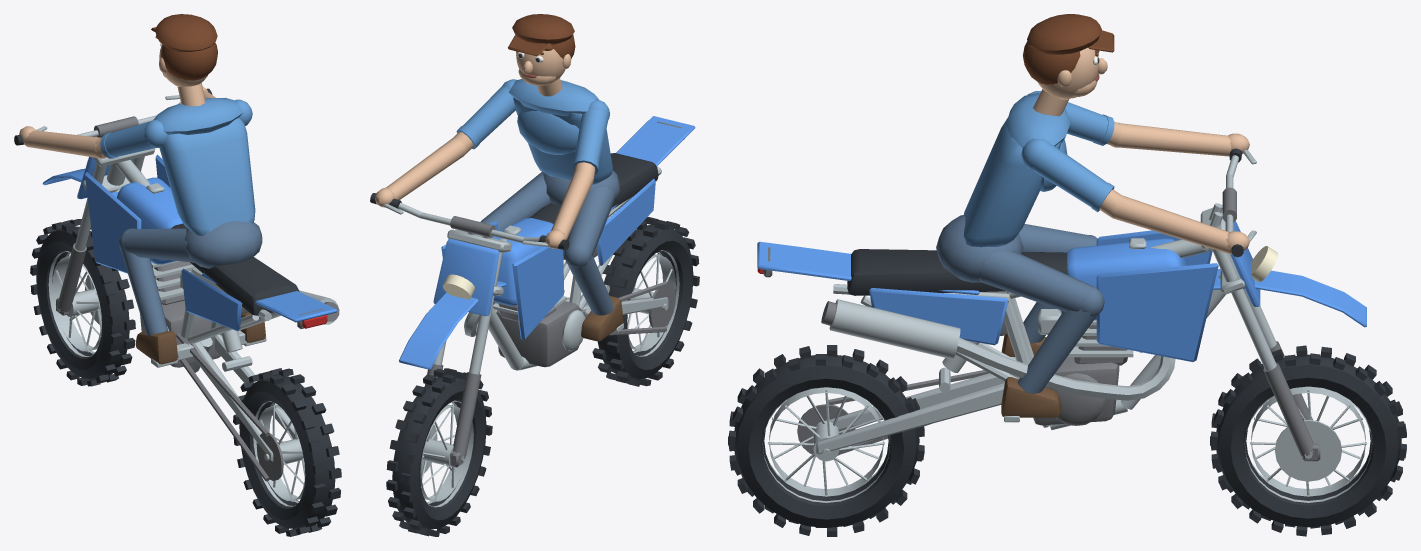
The model's file is Needle600.fbx.
3 renders of one model, left to right at view 1: azimuth 30°, elevation 25°; view 2: azimuth 150°, elevation 25°; view 3: azimuth 270°, elevation 25°, orthographic. The views are drawn at different scales.
Parts seen in each view (by area): view 1: Rider__shirt, WheelRear__rubber, Body__paint, WheelFront__rubber, Rider__trousers, Body__metal, Body__engine, Rider__hair, Body__rubber, WheelFront__metal, Rider__skin, WheelRear__metal (+5 smaller); view 2: Body__paint, Rider__shirt, WheelFront__rubber, WheelRear__rubber, Rider__trousers, Rider__skin, Front__paint, Body__metal, Body__engine, Front__metal, WheelFront__metal, Rider__hair (+6 smaller); view 3: Body__paint, Body__metal, WheelRear__rubber, WheelFront__rubber, Rider__shirt, Rider__trousers, Rider__skin, WheelFront__metal, Body__rubber, Body__engine, WheelRear__metal, Rider__hair (+5 smaller).
Boxes of the visible parts, x1,y1,x2,y2 form: Rider__shirt: (100, 97, 255, 235); WheelRear__rubber: (233, 368, 341, 536); Body__paint: (85, 154, 337, 331); WheelFront__rubber: (30, 219, 135, 386); Rider__trousers: (118, 221, 262, 336); Body__metal: (107, 160, 338, 461); Body__engine: (140, 261, 339, 481); Rider__hair: (151, 14, 217, 80); Body__rubber: (171, 223, 299, 315); WheelFront__metal: (48, 251, 101, 356); Rider__skin: (19, 44, 215, 158); WheelRear__metal: (253, 401, 305, 506); Body__paint: (441, 116, 695, 340); Rider__shirt: (456, 79, 612, 184); WheelFront__rubber: (386, 368, 492, 536); WheelRear__rubber: (592, 217, 699, 386); Rider__trousers: (480, 170, 619, 315); Rider__skin: (375, 49, 595, 249); Front__paint: (399, 238, 506, 369); Body__metal: (464, 166, 668, 370); Body__engine: (496, 121, 684, 367); Front__metal: (382, 202, 548, 461); WheelFront__metal: (420, 400, 473, 507); Rider__hair: (508, 14, 575, 58); Body__paint: (757, 230, 1218, 361); Body__metal: (816, 238, 1236, 456); WheelRear__rubber: (728, 345, 924, 536); WheelFront__rubber: (1210, 345, 1406, 536); Rider__shirt: (963, 91, 1114, 247); Rider__trousers: (936, 215, 1104, 394); Rider__skin: (1033, 47, 1249, 254); WheelFront__metal: (1244, 386, 1372, 502); Body__rubber: (847, 249, 1067, 295); Body__engine: (763, 247, 1142, 453); WheelRear__metal: (762, 387, 889, 502); Rider__hair: (1023, 14, 1114, 84).
Size of the model in its own units: 0.9045 by 1.92 by 2.32.
